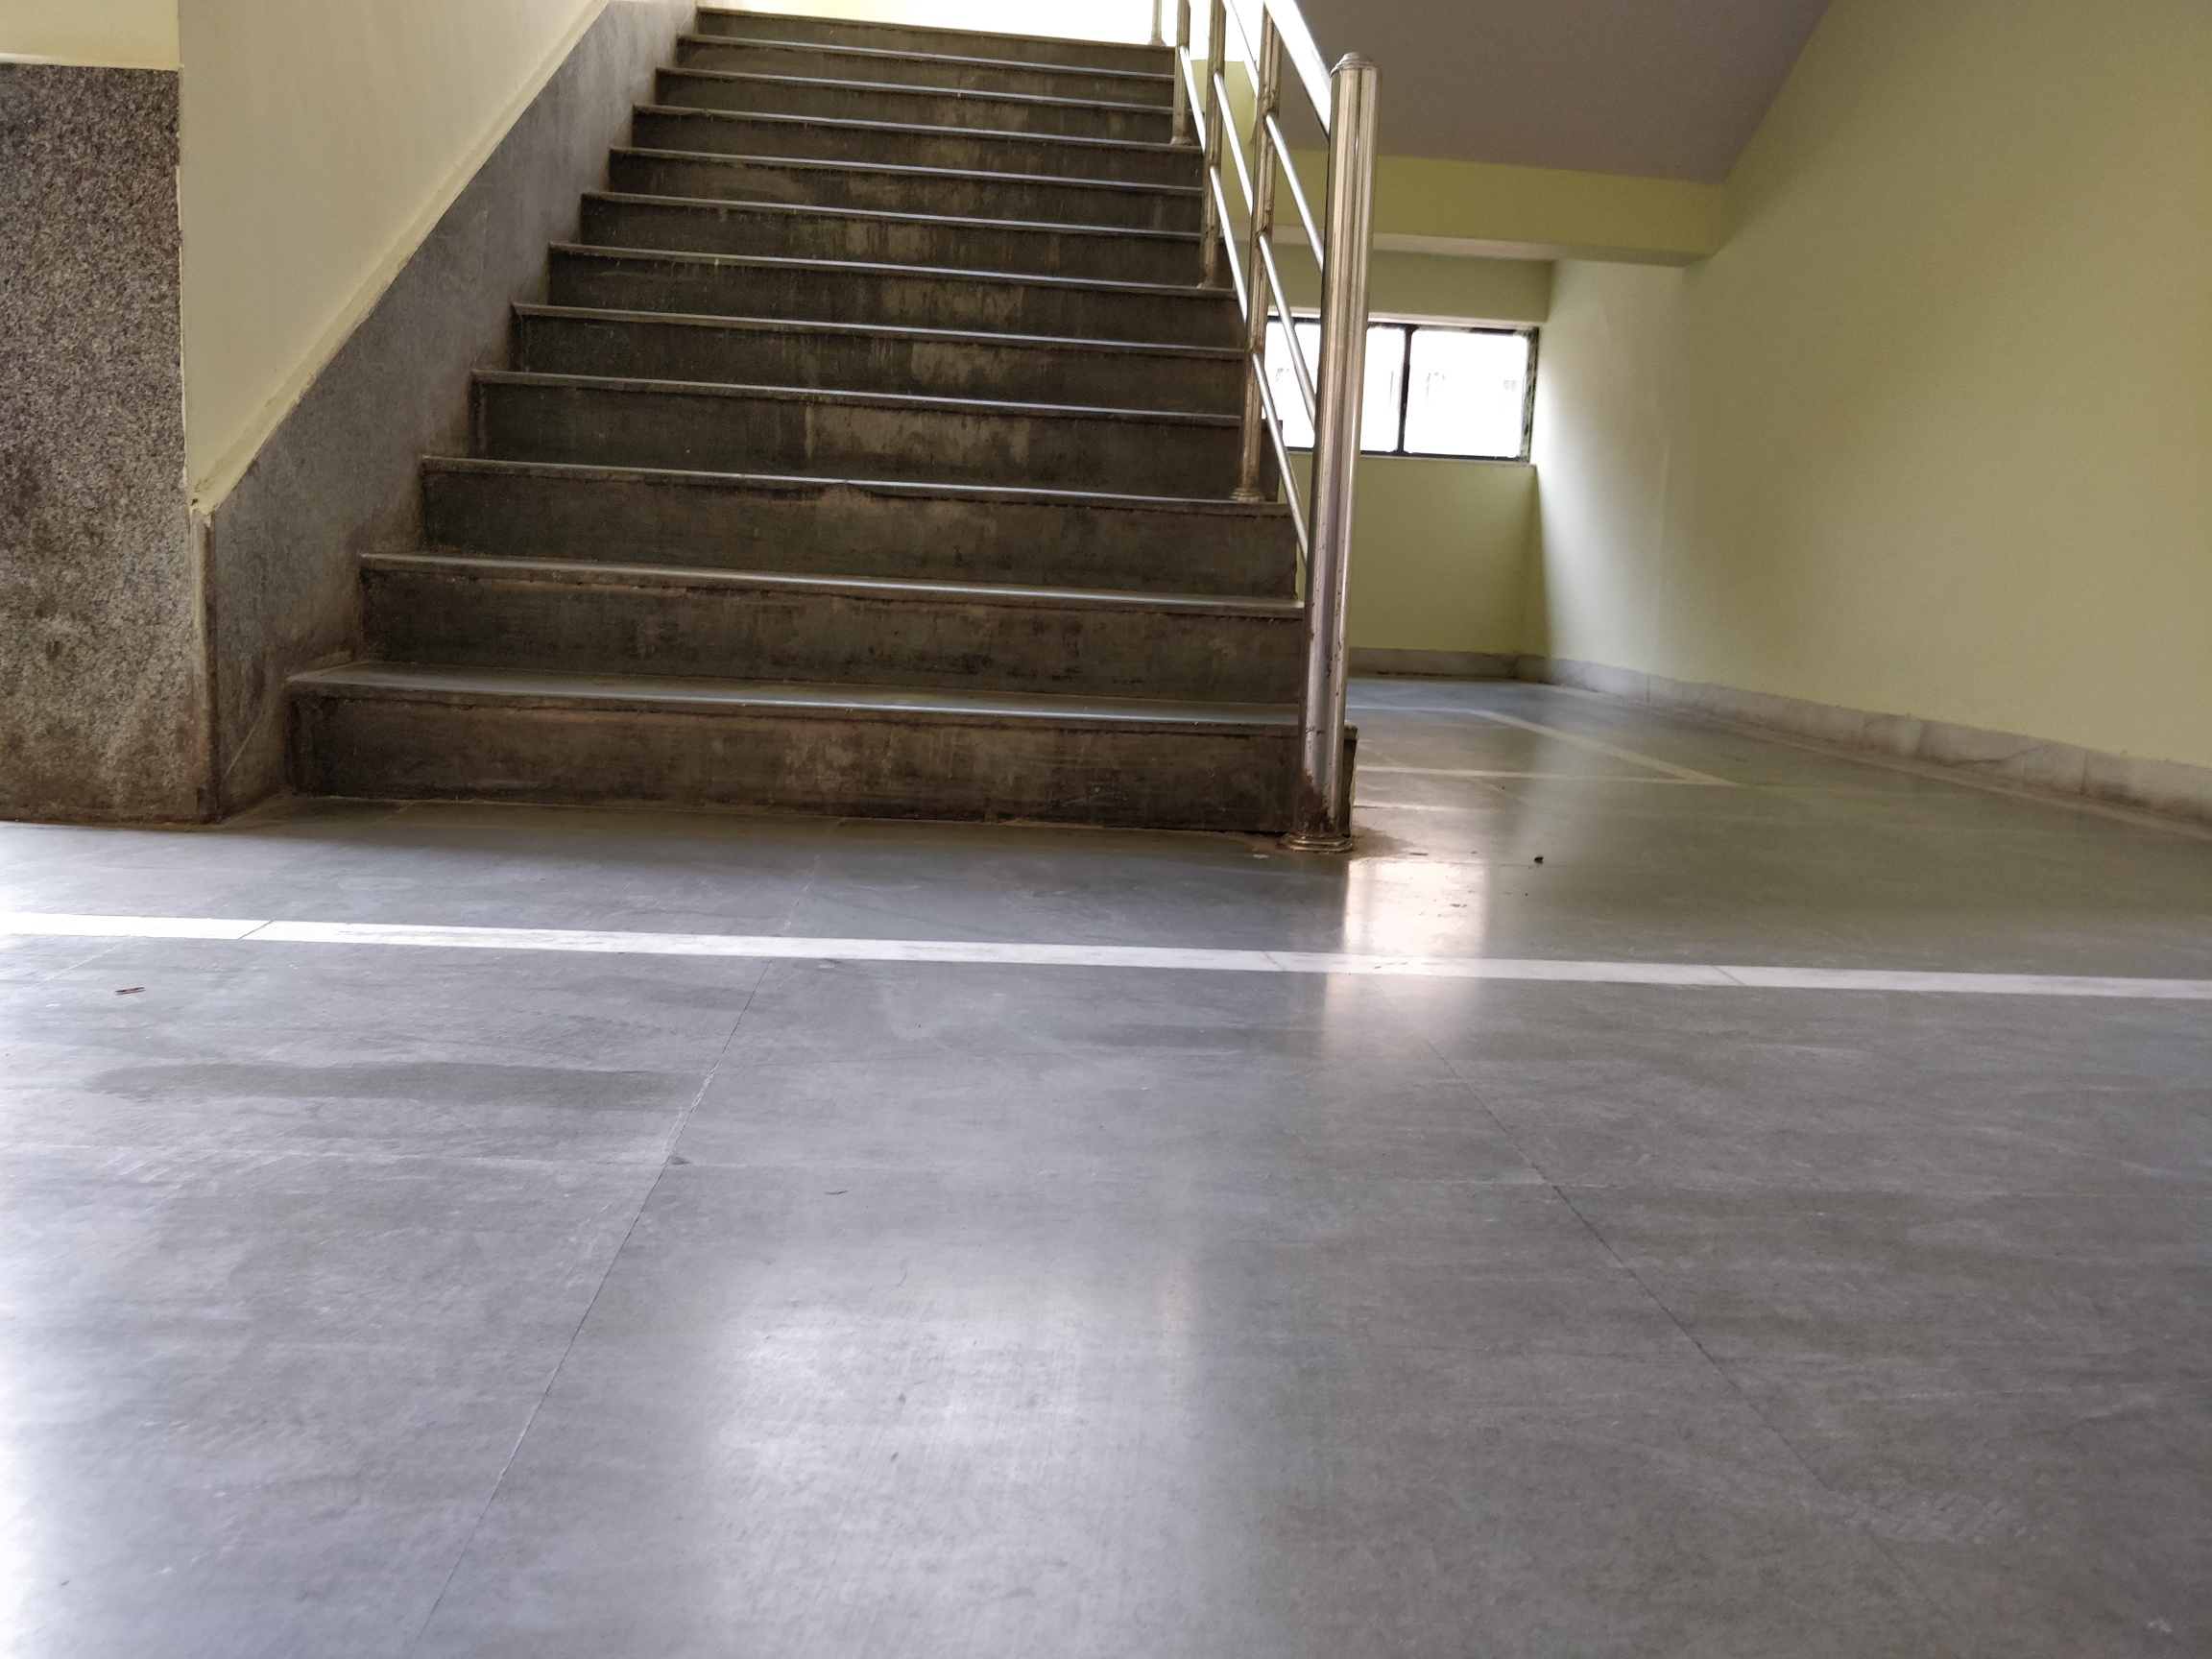stairs_up: (399, 21, 1315, 856)
